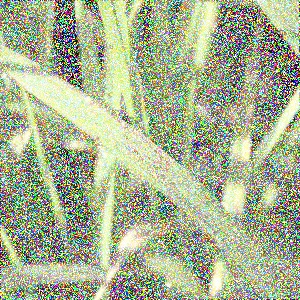Brown_Spot: (139, 163, 171, 192), (115, 143, 141, 165), (155, 150, 174, 173)
